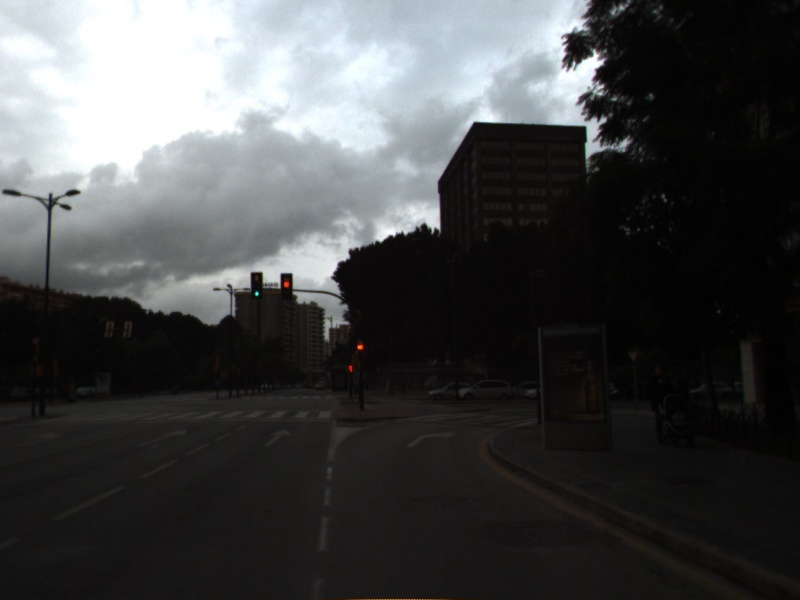RIGHT: (403, 427, 458, 450)
STRAIGHT: (134, 426, 190, 450), (261, 425, 295, 449)
